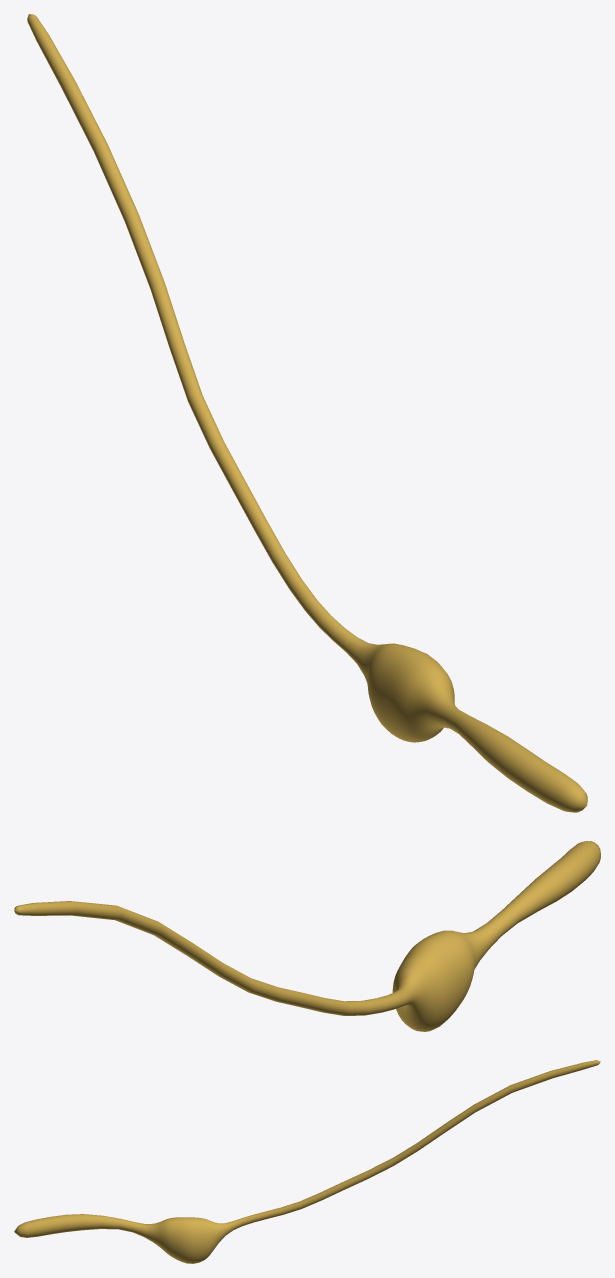
The picture shows the model from 3 angles, top to bottom: view 1: azimuth 30°, elevation 25°; view 2: azimuth 150°, elevation 25°; view 3: azimuth 270°, elevation 25°; orthographic projection. The views are drawn at different scales.
Visible parts, largest first — view 1: 右侧三叉神经感觉根; view 2: 右侧三叉神经感觉根; view 3: 右侧三叉神经感觉根.
Part boxes in pixels (box(x1,y1,x2,y2)): 右侧三叉神经感觉根: box(27, 14, 587, 812); 右侧三叉神经感觉根: box(14, 841, 600, 1031); 右侧三叉神经感觉根: box(14, 1060, 600, 1263).
Size of the model in its own units: 0.00646 by 0.0388 by 0.0984.
